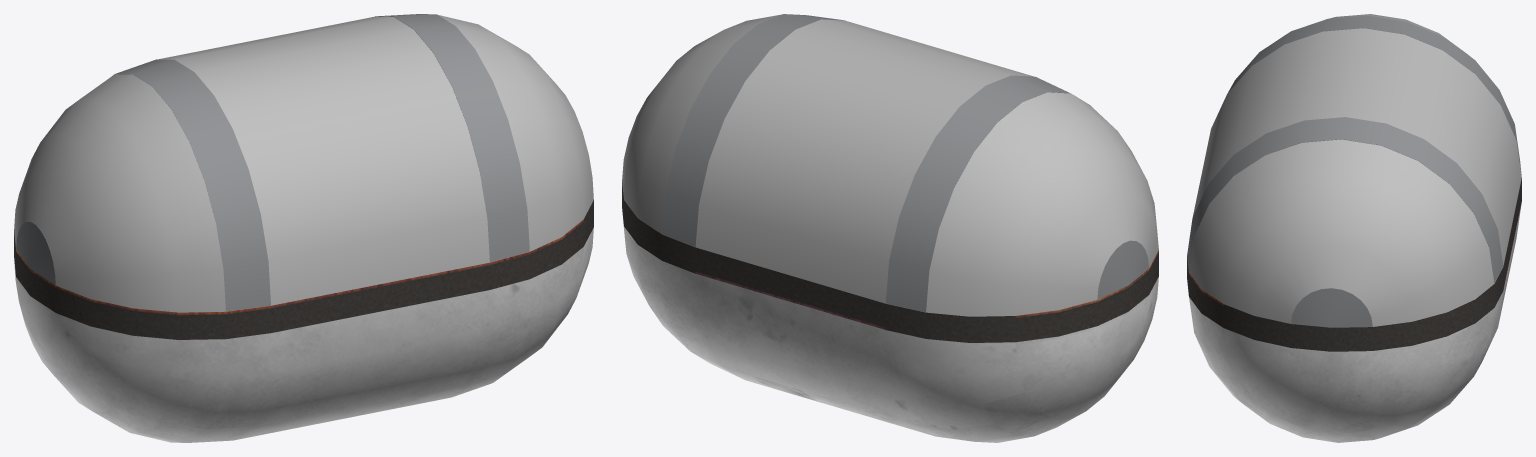
Rendered from Unity-Wheel-Interior.fbx.
3 renders of one model, left to right at view 1: azimuth 30°, elevation 25°; view 2: azimuth 150°, elevation 25°; view 3: azimuth 270°, elevation 25°, orthographic. The views are drawn at different scales.
Parts seen in each view (by area): view 1: Steel; view 2: Steel; view 3: Steel.
Boxes of the visible parts, box(x1,y1,x2,y2) form: Steel: box(14, 14, 593, 442); Steel: box(622, 14, 1158, 442); Steel: box(1187, 14, 1521, 442).
Bounding box in the file's own units: 9.96 × 6.5 × 6.33.
